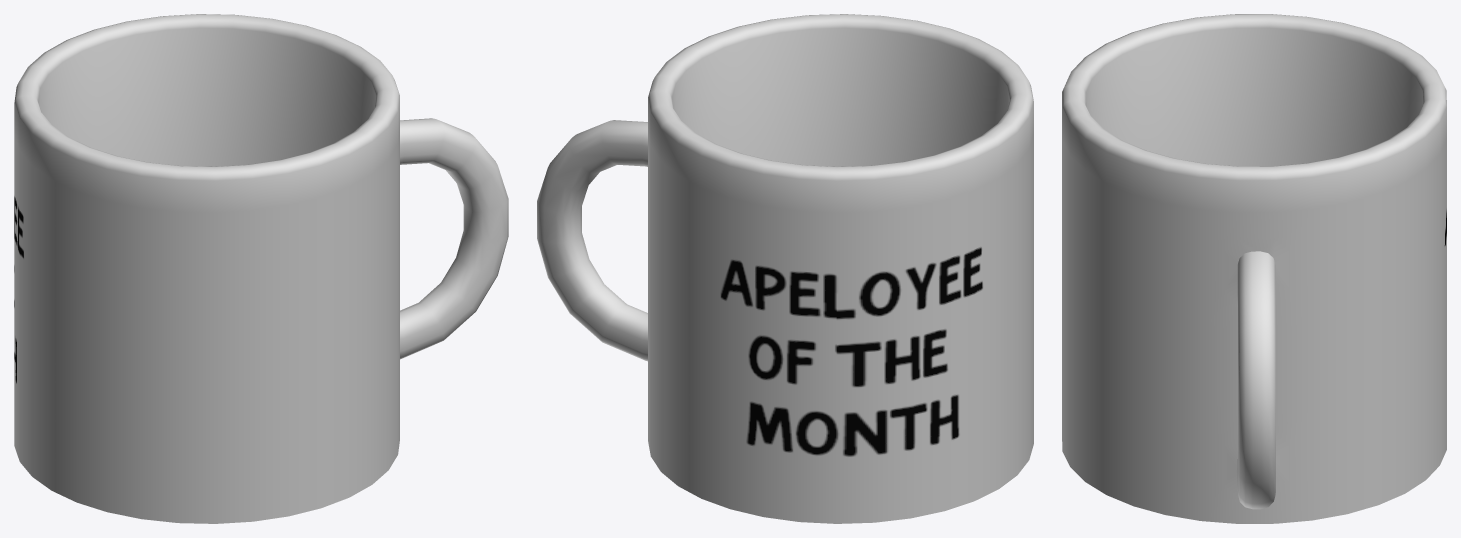
The model's file is mug.fbx.
3 renders of one model, left to right at view 1: azimuth 30°, elevation 25°; view 2: azimuth 150°, elevation 25°; view 3: azimuth 270°, elevation 25°, orthographic.
Parts seen in each view (by area): view 1: Cylinder; view 2: Cylinder; view 3: Cylinder.
Boxes of the visible parts, box(x1,y1,x2,y2) form: Cylinder: box(14, 14, 508, 523); Cylinder: box(537, 14, 1033, 523); Cylinder: box(1062, 14, 1446, 523).
Size of the model in its own units: 278 by 200 by 199.
1 material, 1 textured.
